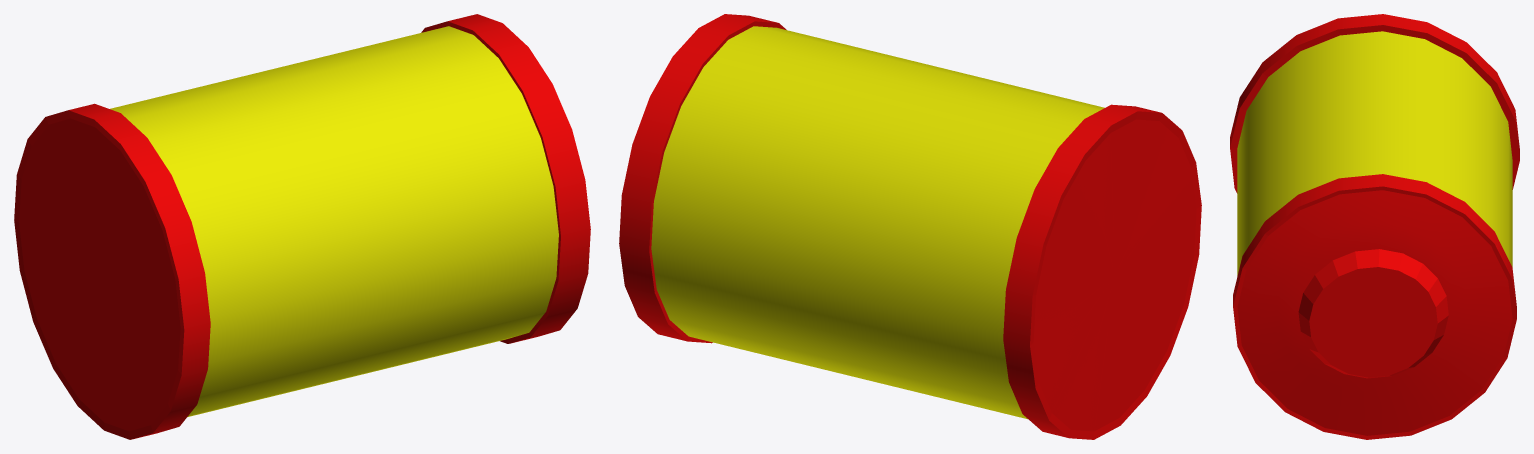
File: BATTERY01.fbx
3 views of the same model, side by side, from view 1: azimuth 30°, elevation 25°; view 2: azimuth 150°, elevation 25°; view 3: azimuth 270°, elevation 25° (orthographic). The views are drawn at different scales.
Visible parts, largest first — view 1: polySurface8, polySurface9, polySurface10; view 2: polySurface8, polySurface9, polySurface10; view 3: polySurface10, polySurface8, polySurface9.
Boxes of the visible parts, x1,y1,x2,y2 form: polySurface8: [110, 26, 558, 416]; polySurface9: [14, 103, 210, 439]; polySurface10: [421, 14, 590, 343]; polySurface8: [651, 26, 1104, 419]; polySurface9: [1003, 104, 1201, 439]; polySurface10: [619, 14, 786, 343]; polySurface10: [1233, 174, 1516, 439]; polySurface8: [1237, 31, 1512, 275]; polySurface9: [1230, 14, 1519, 193].
Size of the model in its own units: 0.3992 by 0.265 by 0.269.
